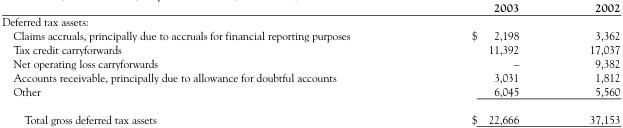table: (1, 0, 619, 124)
table column: (1, 0, 410, 124), (410, 0, 553, 124), (553, 0, 619, 124)
table column header: (1, 0, 619, 14)
table projected row header: (1, 14, 619, 27)
table row: (1, 83, 619, 104), (1, 104, 619, 124), (1, 0, 619, 14), (1, 27, 619, 41), (1, 41, 619, 55), (1, 55, 619, 69), (1, 69, 619, 83), (1, 14, 619, 27)
